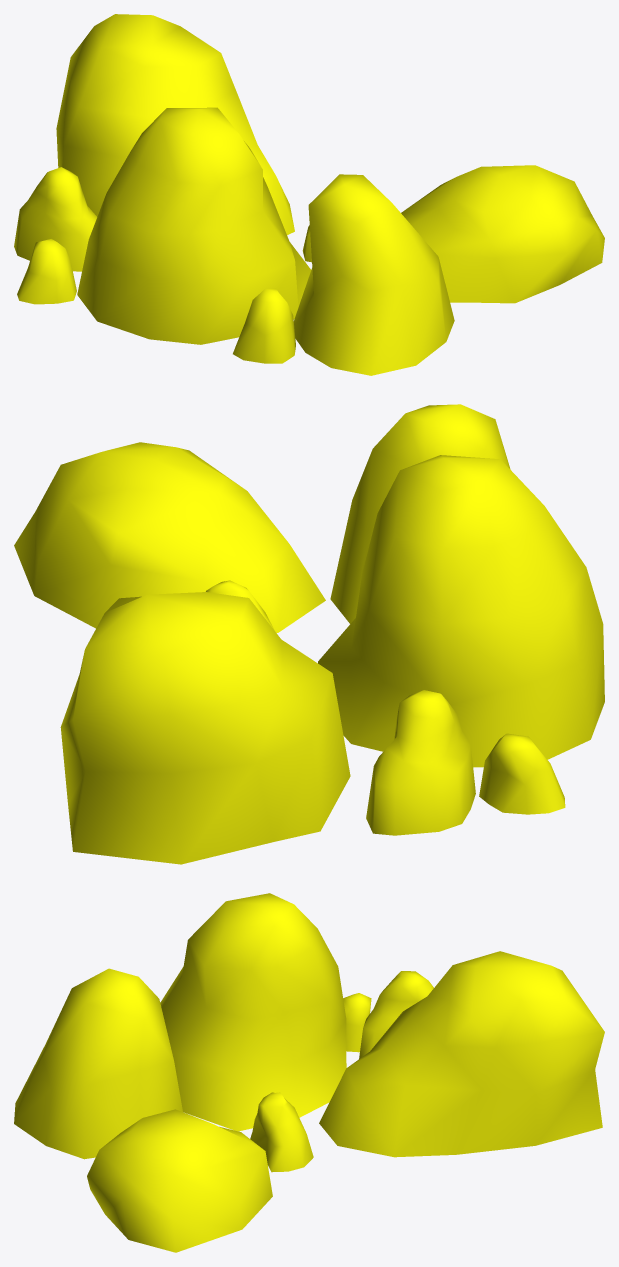
The model's file is shrine_rock_04.glb.
3 views of the same model, one above another, from view 1: azimuth 30°, elevation 25°; view 2: azimuth 150°, elevation 25°; view 3: azimuth 270°, elevation 25° (orthographic). The views are drawn at different scales.
Visible parts, largest first — view 1: Shrine_rock_04; view 2: Shrine_rock_04; view 3: Shrine_rock_04.
Boxes of the visible parts, x1=… form: Shrine_rock_04: x1=14, y1=14, x2=604, y2=375; Shrine_rock_04: x1=14, y1=404, x2=604, y2=864; Shrine_rock_04: x1=14, y1=893, x2=604, y2=1252.
Size of the model in its own units: 6.2 by 2.29 by 6.63.
Materials: 3 (3 with a texture image).
